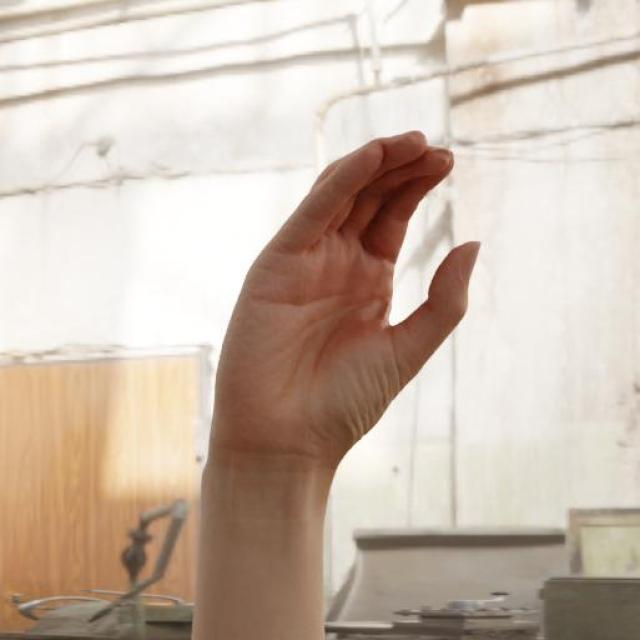C: (202, 123, 484, 472)
